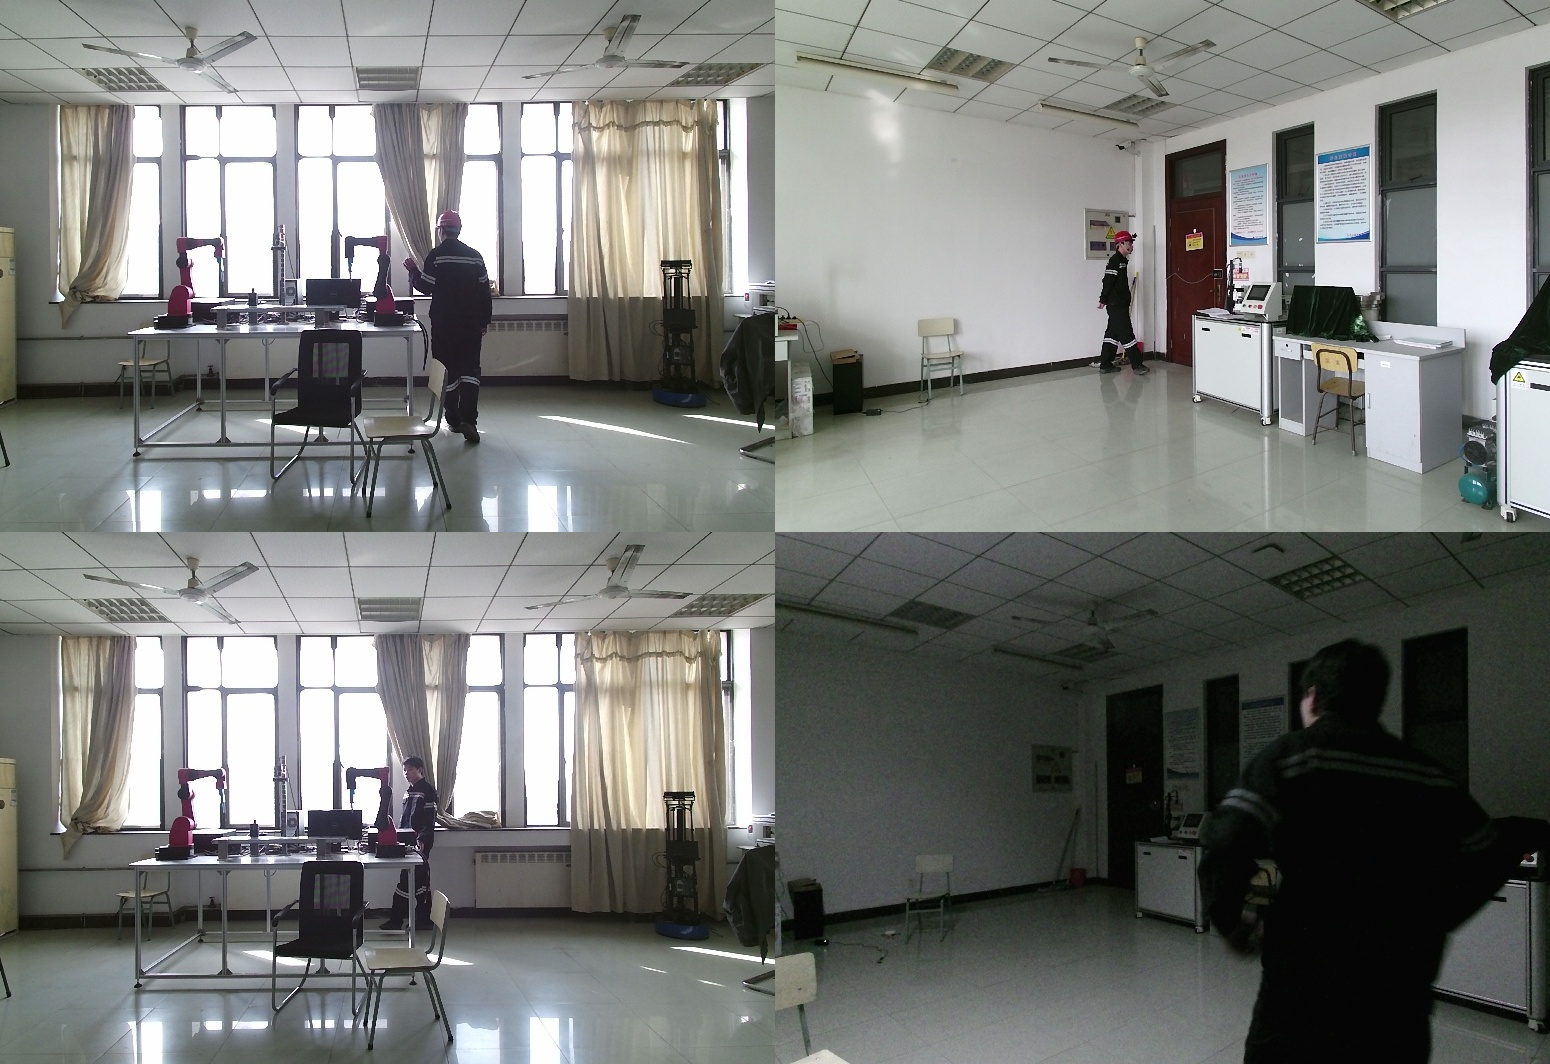person: (1193, 651, 1510, 1064), (406, 211, 502, 448), (380, 757, 445, 939), (1095, 232, 1148, 375)
